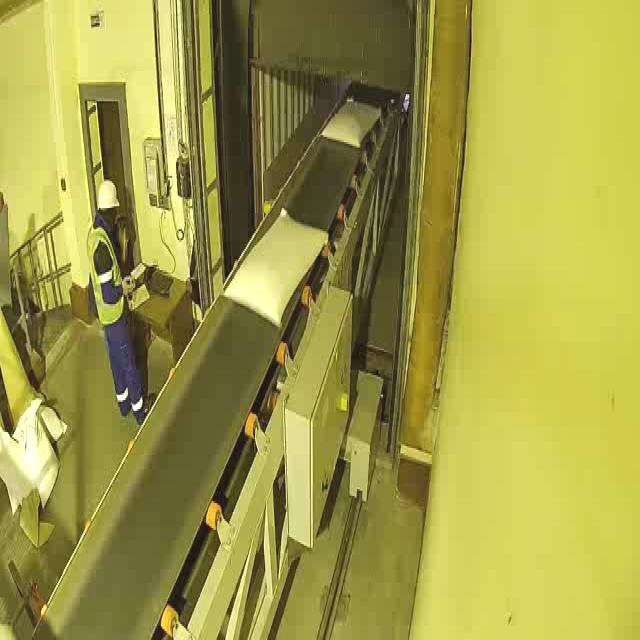bag: (225, 210, 328, 323), (320, 94, 382, 150)
